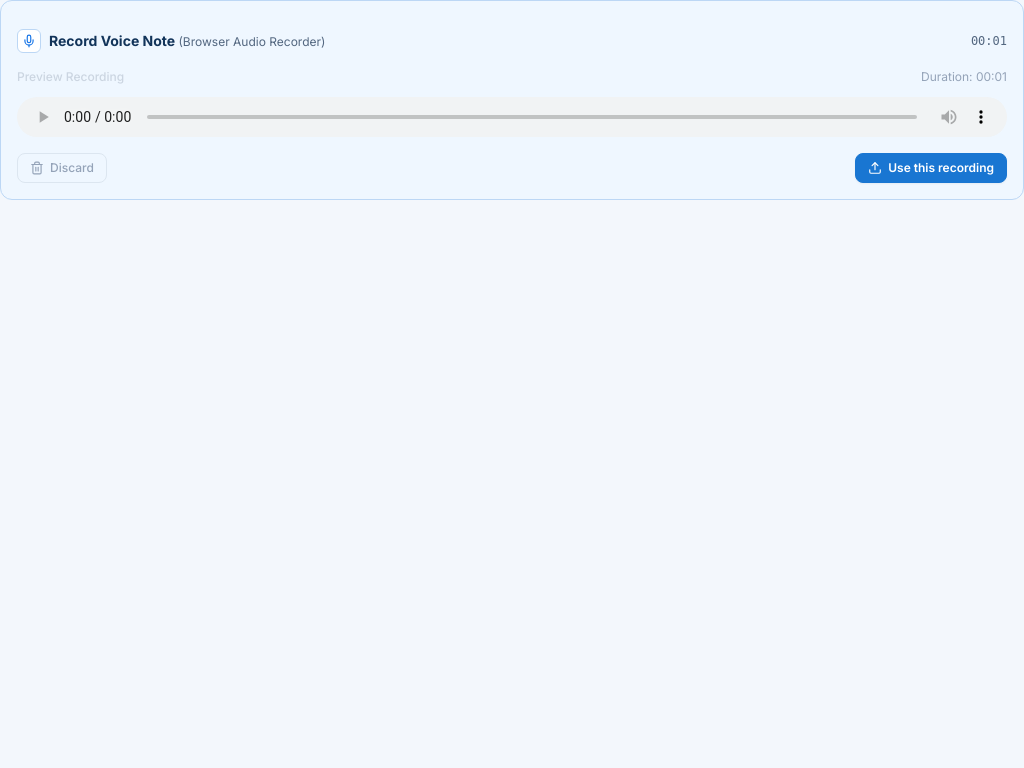
T2.4: AudioRecorder & useMediaRecorder › discarding preview revokes object URL and returns to idle
The width and height of the screenshot is (1024, 768).
Earlier steps of the test are not shown.
Click the button "Discard".
click(62, 168)  # box [17, 153, 107, 183]
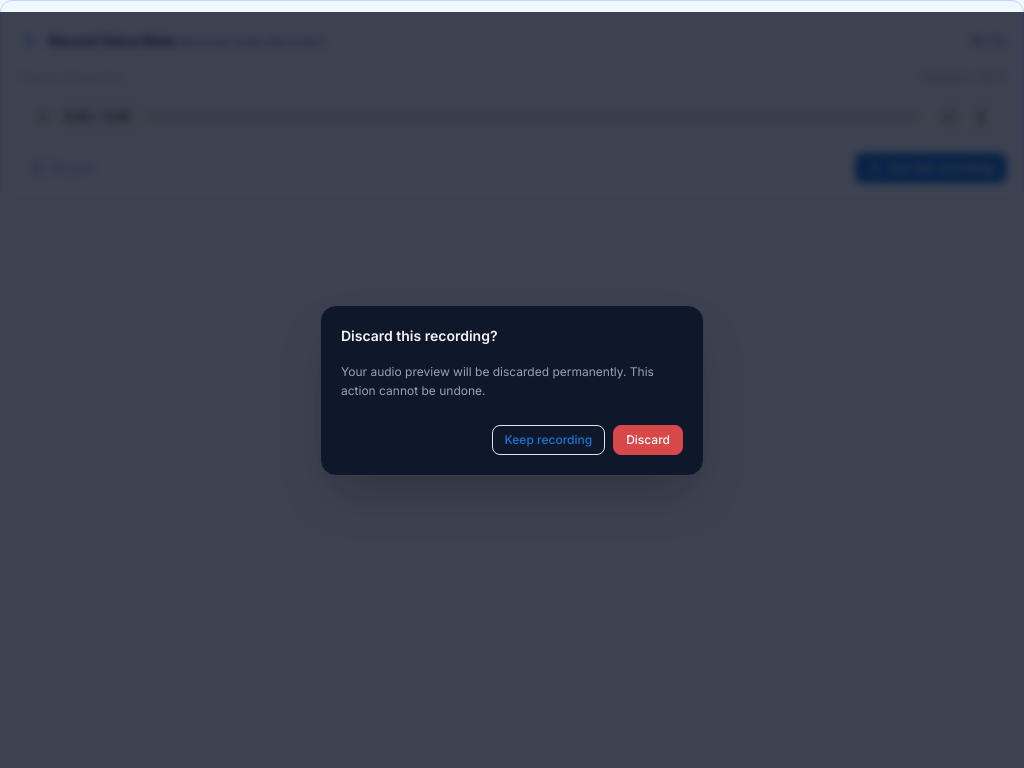
Expected: the heading "Discard this recording?" is shown, [341, 326, 498, 344]
Click the button "Discard".
click(648, 440)  # box [613, 424, 683, 454]
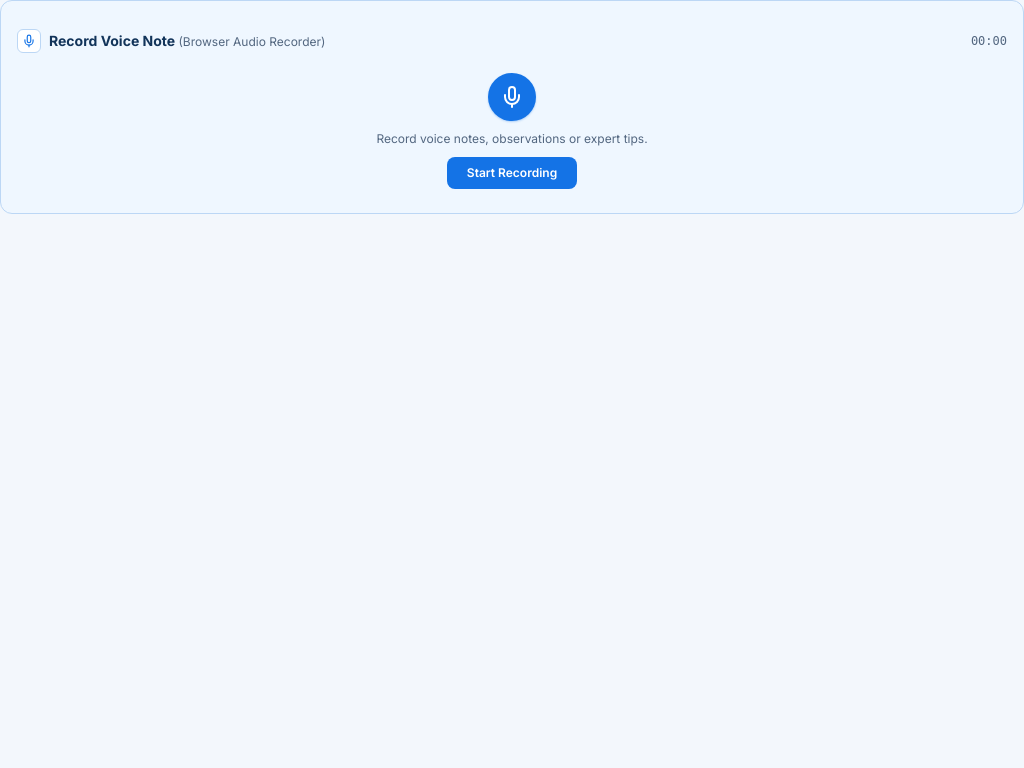
Expected: the button "Start Recording" is shown, [447, 157, 577, 189]
